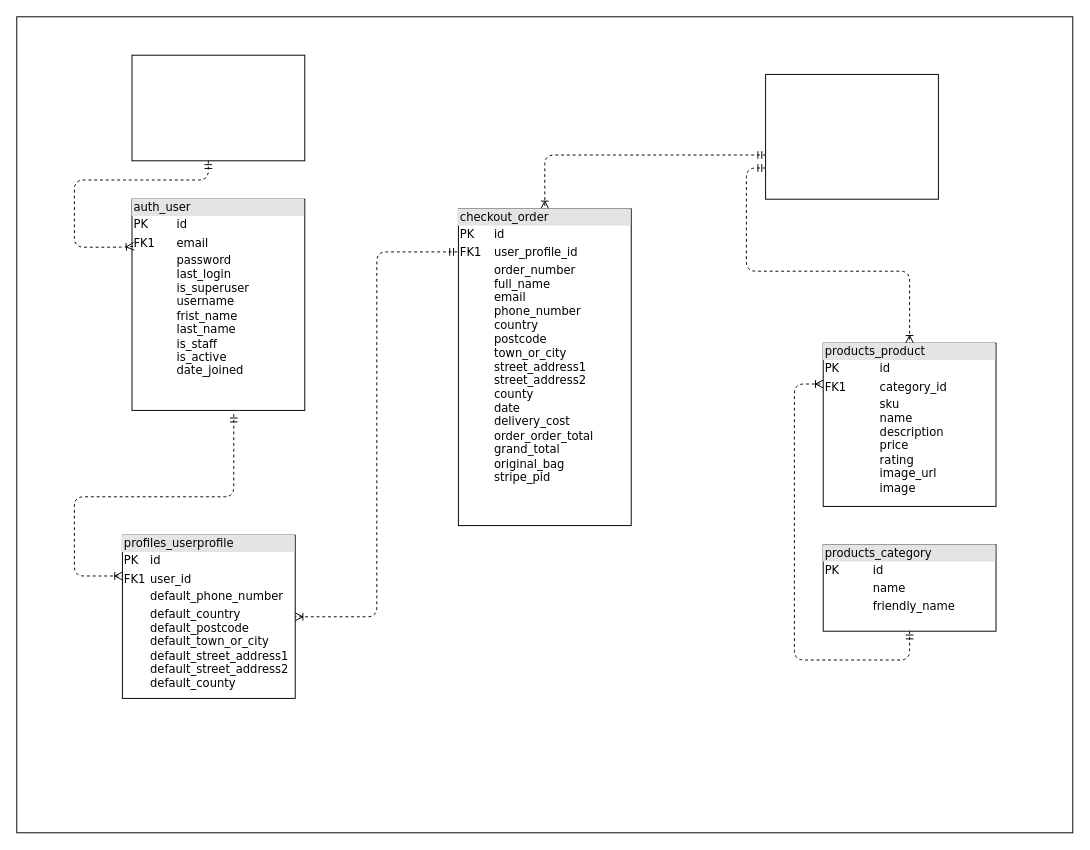
Some shapes in this 1090 by 850 pixel diagram are drawn without their labels. Here are the shapes that lost their labels. From the top down, the centre of each, then its label:
the point at 218,107: account_emailaddress PK id FK1 user_id email verified primary
the point at 851,136: checkout_orderlineitem PK id quantity lineitem_total FK1 order_id FK1 product_id
